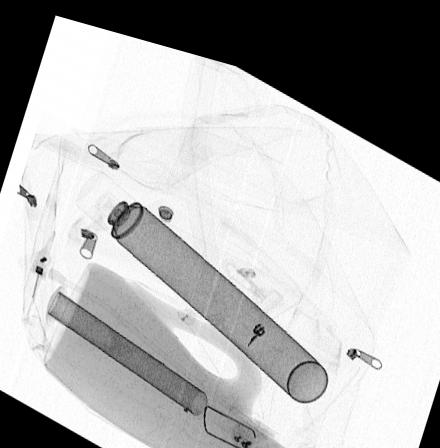Sprayer: (73, 165, 327, 388)
